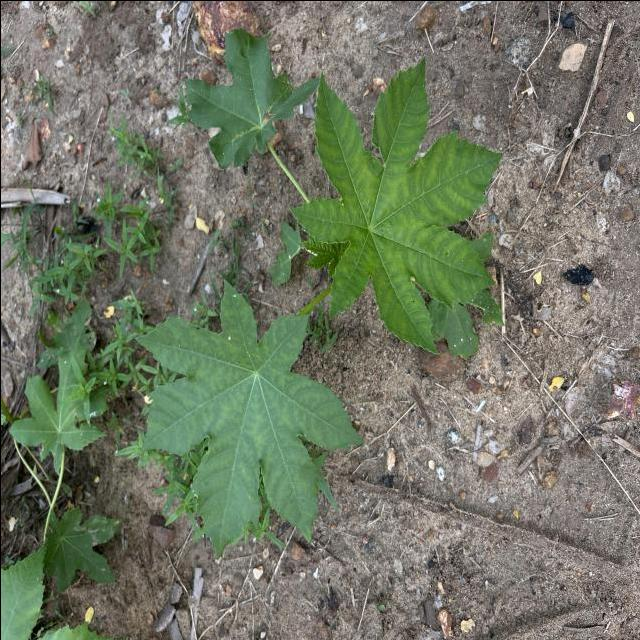Ricinus communis linn: (131, 274, 366, 568), (285, 51, 506, 359)
